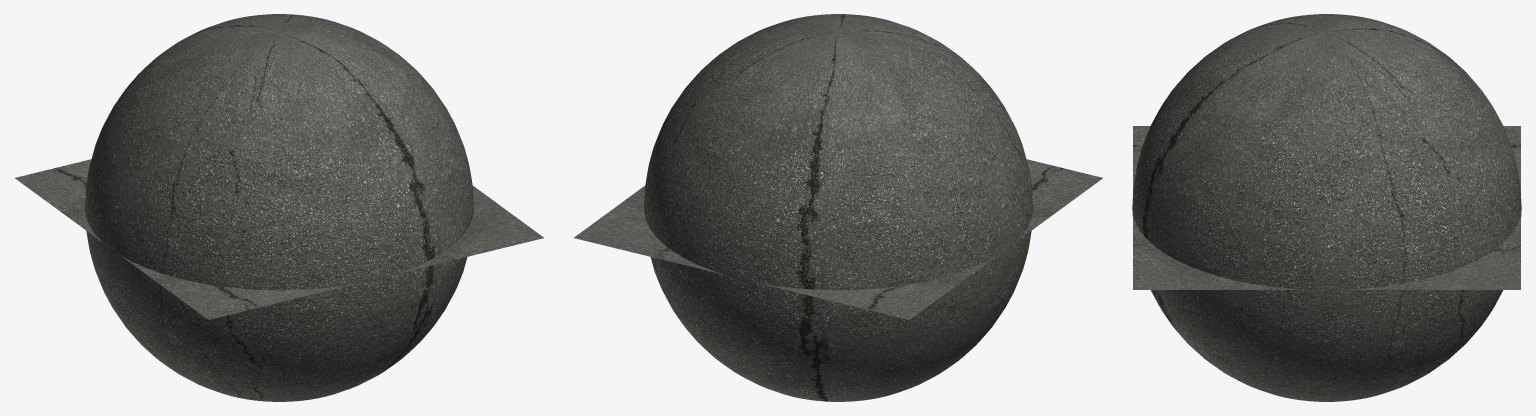
File: asphalt.glb
The picture shows the model from 3 angles, left to right: view 1: azimuth 30°, elevation 25°; view 2: azimuth 150°, elevation 25°; view 3: azimuth 270°, elevation 25°; orthographic projection.
Parts seen in each view (by area): view 1: Sphere, Plane; view 2: Sphere, Plane; view 3: Sphere, Plane.
Boxes of the visible parts, bbox=[...] form: Sphere: bbox=[85, 14, 473, 401]; Plane: bbox=[15, 159, 543, 319]; Sphere: bbox=[644, 14, 1032, 401]; Plane: bbox=[574, 159, 1102, 319]; Sphere: bbox=[1132, 14, 1521, 401]; Plane: bbox=[1133, 126, 1520, 289].
Bounding box in the file's own units: 3.01 × 3 × 3.01.
1 material, 1 textured.
